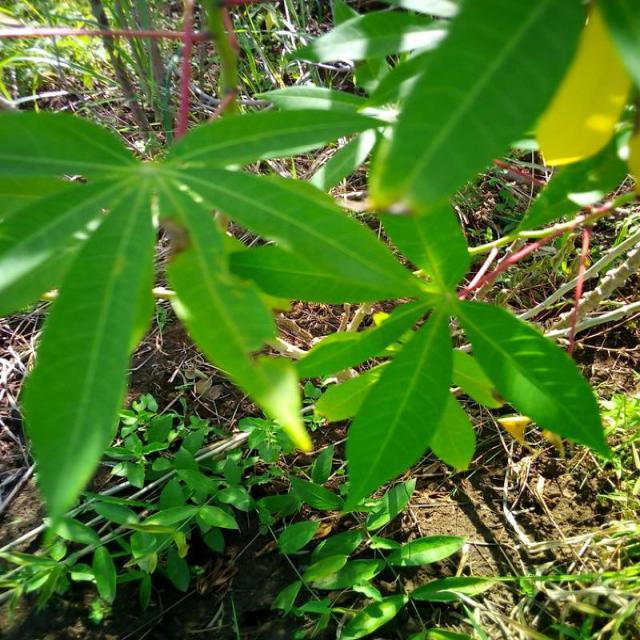cassava leaf: (2, 1, 628, 543), (368, 0, 590, 217)
